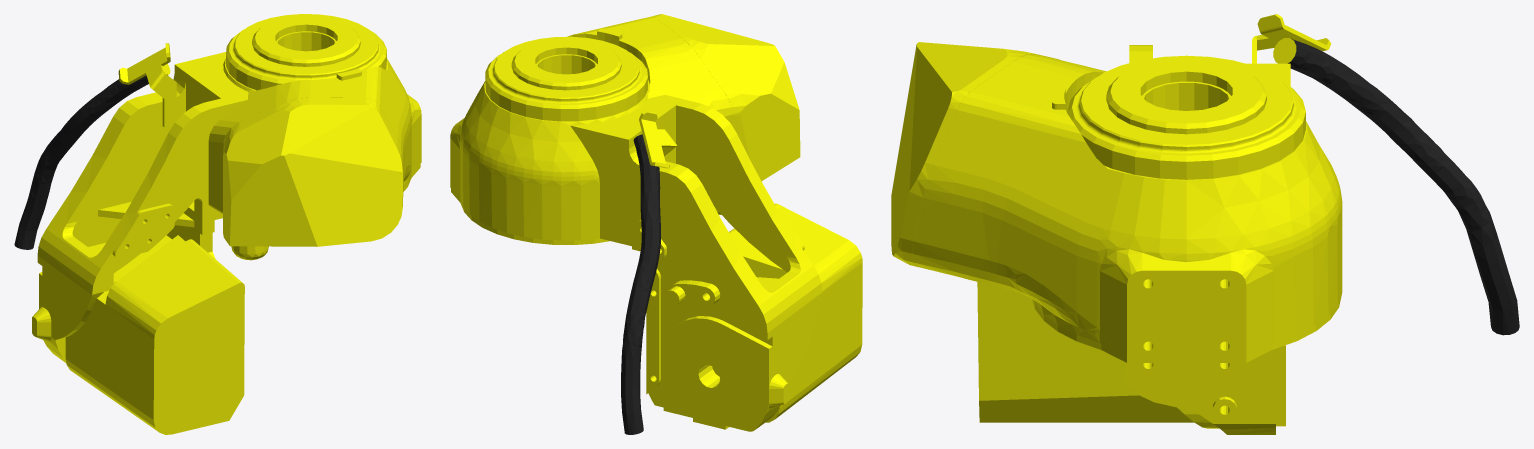
The picture shows the model from 3 angles, left to right: view 1: azimuth 30°, elevation 25°; view 2: azimuth 150°, elevation 25°; view 3: azimuth 270°, elevation 25°; orthographic projection. The views are drawn at different scales.
Parts seen in each view (by area): view 1: node; view 2: node; view 3: node.
Boxes of the visible parts, bbox=[...] form: node: bbox=[14, 14, 421, 434]; node: bbox=[450, 14, 862, 434]; node: bbox=[891, 14, 1519, 434].
Size of the model in its own units: 379 by 319 by 411.
